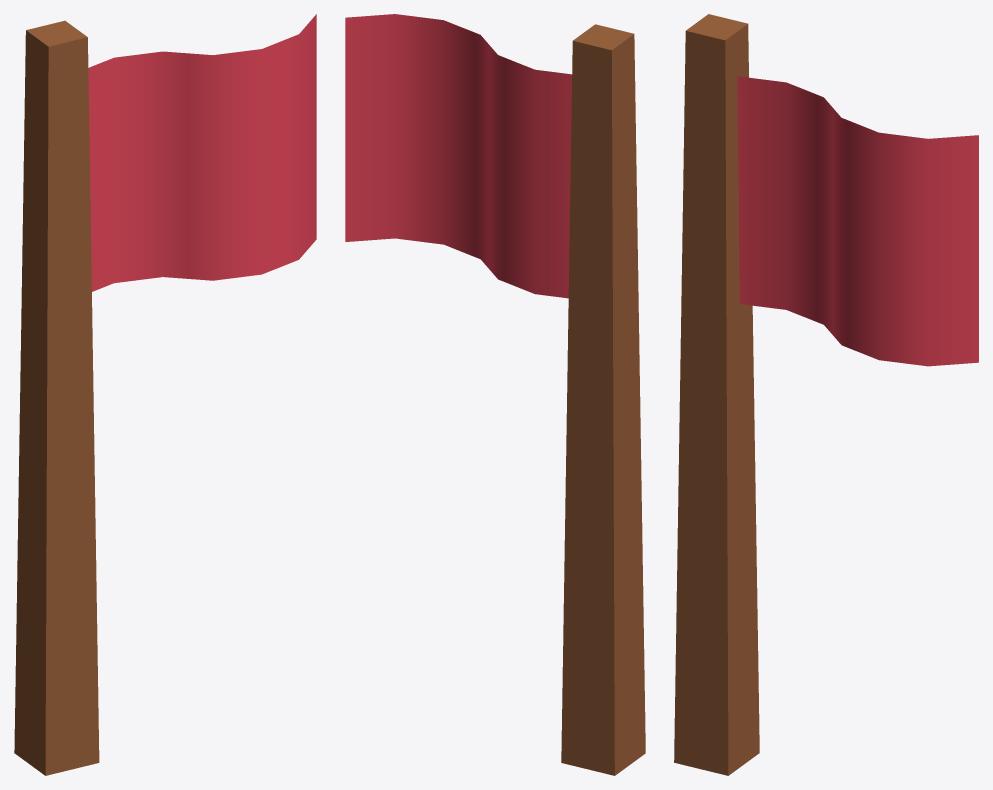
The model's file is flag.fbx.
3 renders of one model, left to right at view 1: azimuth 30°, elevation 25°; view 2: azimuth 150°, elevation 25°; view 3: azimuth 330°, elevation 25°, orthographic.
Visible parts, largest first — view 1: flag; view 2: flag; view 3: flag.
Boxes of the visible parts, x1,y1,x2,y2 form: flag: [14, 14, 316, 775]; flag: [345, 14, 645, 775]; flag: [674, 14, 978, 775].
Size of the model in its own units: 3.73 by 9 by 0.85.
